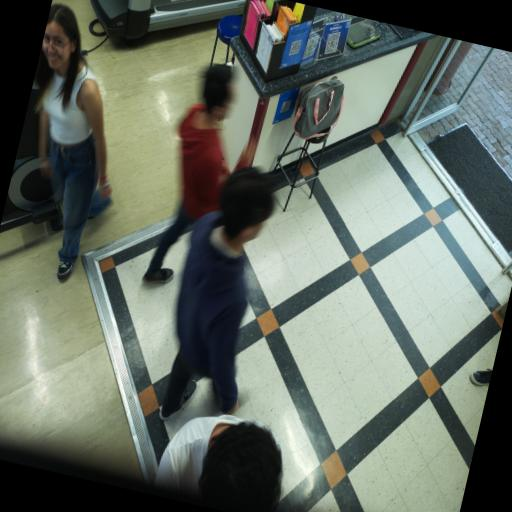person: (159, 168, 273, 419), (34, 4, 110, 279), (142, 64, 231, 283), (154, 416, 281, 511), (469, 369, 491, 386)
